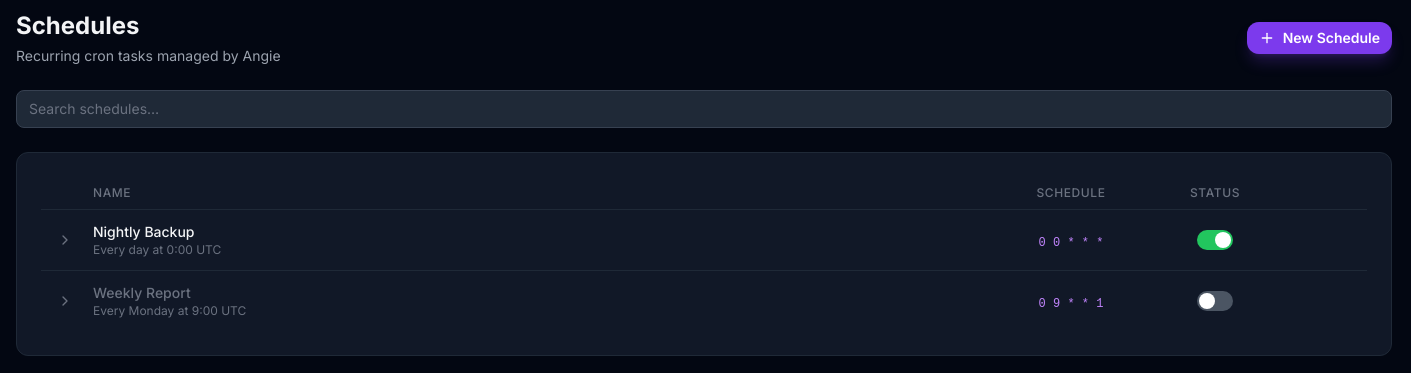
Test case: SchedulesPage › filters schedules by search
Expected: the text "Nightly Backup" is shown, [93, 223, 194, 240]
Type "Weekly" into the field with placeholder "Search schedules…" at [704, 109], box [16, 90, 1392, 128]
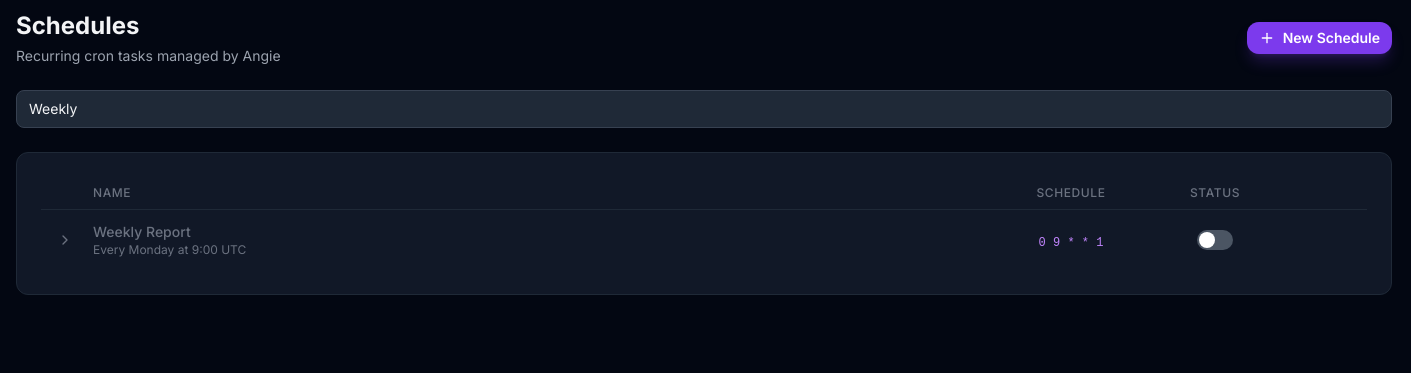
Expected: the text "Weekly Report" is shown, [93, 223, 191, 240]
Now the text "Nightly Backup" is gone
